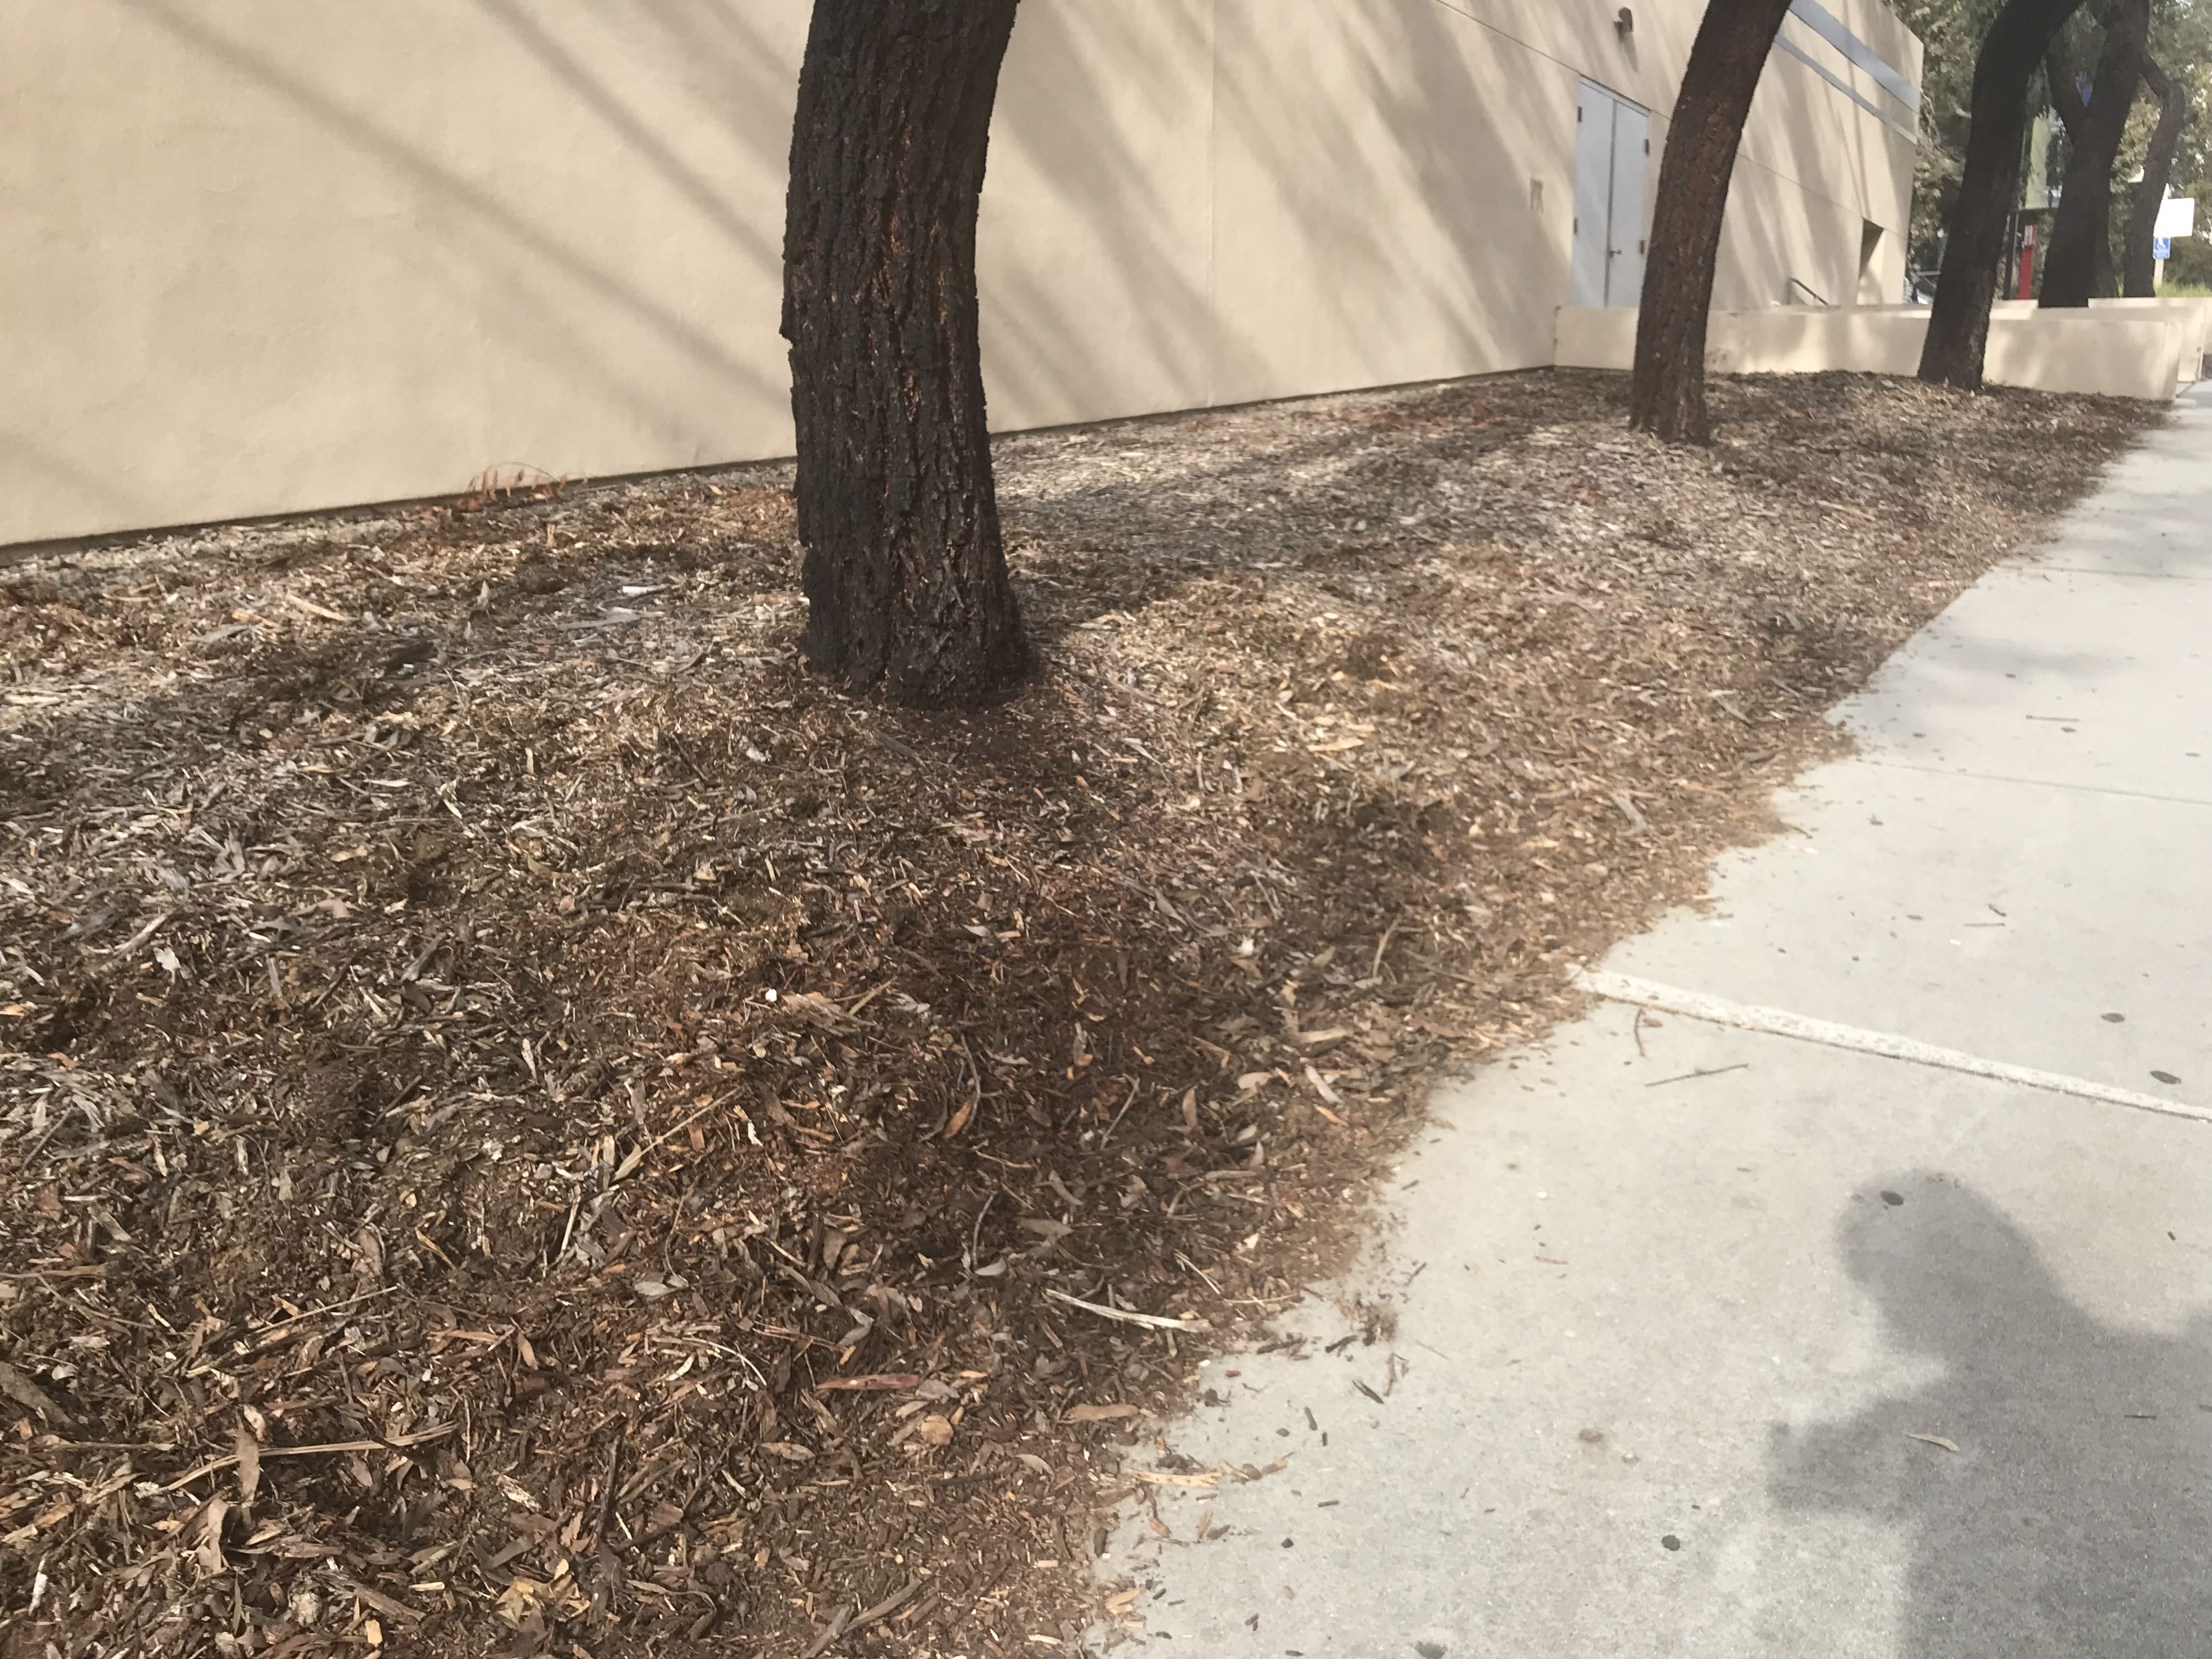Edge: (972, 406, 2158, 1656)
Obstacle: (796, 12, 1045, 683), (1648, 12, 1752, 446), (1949, 7, 2029, 385)
